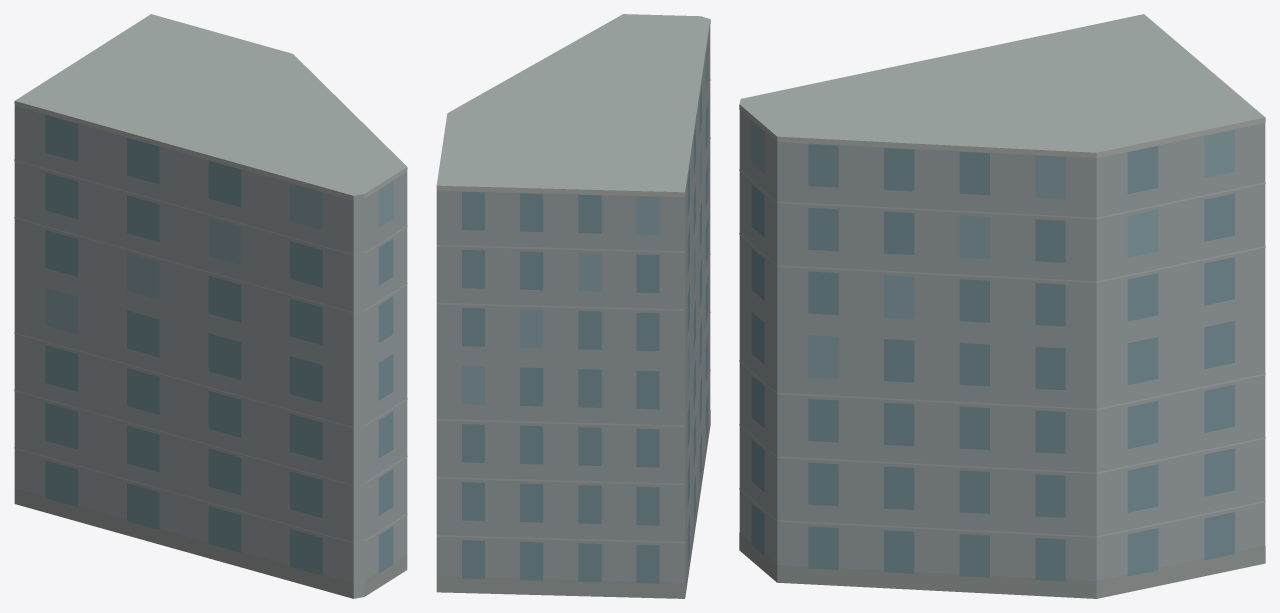
The model's file is survey-upis-32811109.glb.
3 views of the same model, side by side, from view 1: azimuth 30°, elevation 25°; view 2: azimuth 150°, elevation 25°; view 3: azimuth 270°, elevation 25° (orthographic). The views are drawn at different scales.
Parts seen in each view (by area): view 1: survey-upis-32811109.tmp; view 2: survey-upis-32811109.tmp; view 3: survey-upis-32811109.tmp.
Boxes of the visible parts, x1,y1,x2,y2 form: survey-upis-32811109.tmp: [14, 14, 407, 598]; survey-upis-32811109.tmp: [436, 14, 710, 598]; survey-upis-32811109.tmp: [739, 14, 1265, 598].
Bounding box in the file's own units: 13.44 × 20.1 × 21.5.
